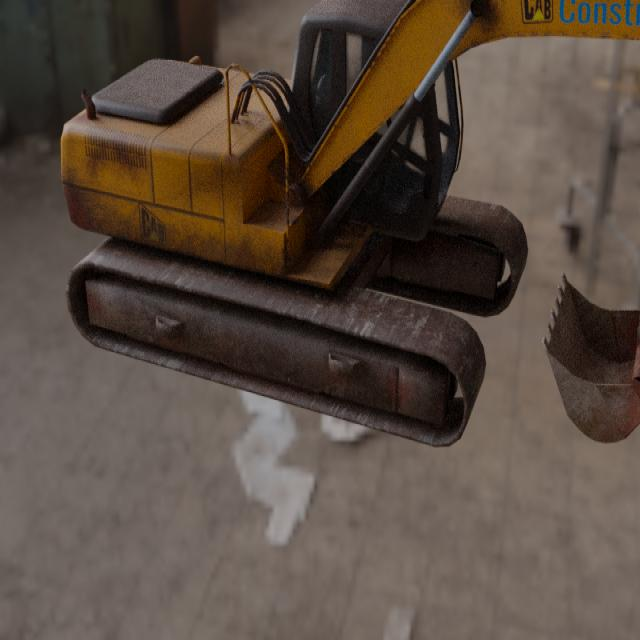excavator: (60, 0, 640, 448)
